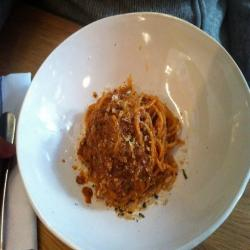bolonese_pasta: (60, 65, 210, 229)
